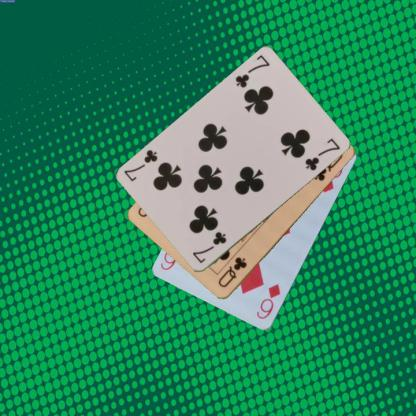6d: (254, 281, 282, 321)
7c: (232, 52, 271, 90), (190, 230, 228, 266)
Qc: (216, 255, 249, 289)
